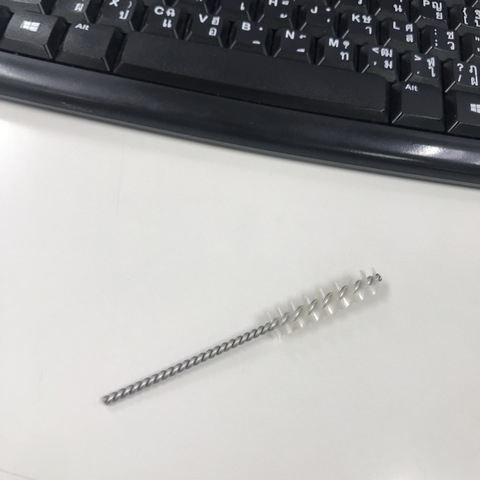Twist Brush-B: (96, 262, 386, 408)
